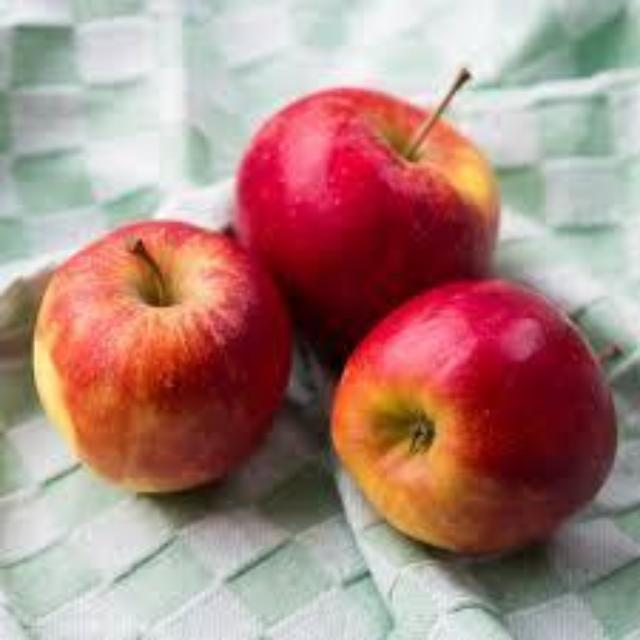apple: (333, 279, 612, 552), (233, 88, 498, 356), (34, 222, 290, 489)
